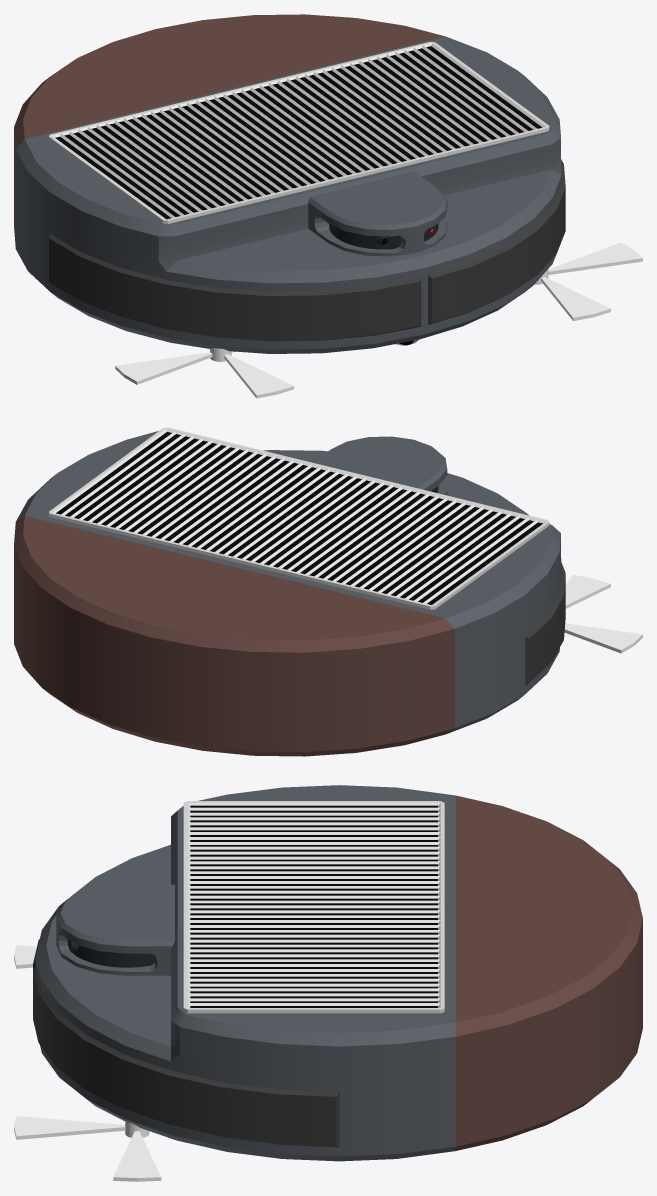
The model's file is electronic10.glb.
3 views of the same model, one above another, from view 1: azimuth 30°, elevation 25°; view 2: azimuth 150°, elevation 25°; view 3: azimuth 270°, elevation 25° (orthographic). The views are drawn at different scales.
Parts seen in each view (by area): view 1: Body.1_4, Air-Filter.1_2, Body.002_3, Container.1_9, Body.2_5, Brush.2_7, Brush.1_6, Lidar.1_10; view 2: Container.1_9, Air-Filter.1_2, Body.1_4, Body.2_5, Body.002_3, Brush.2_7; view 3: Air-Filter.1_2, Container.1_9, Body.1_4, Body.002_3, Body.2_5, Brush.1_6, Lidar.1_10.
Part boxes in pixels (x1,y1,x2,y2): Body.1_4: (15,36,561,353); Air-Filter.1_2: (48,41,549,223); Body.002_3: (49,159,565,341); Container.1_9: (14,14,445,245); Body.2_5: (308,171,447,256); Brush.2_7: (115,348,294,398); Brush.1_6: (534,242,642,321); Lidar.1_10: (329,223,438,249); Container.1_9: (14,516,454,756); Air-Filter.1_2: (48,427,549,609); Body.1_4: (16,431,561,733); Body.2_5: (313,436,447,495); Body.002_3: (525,562,565,685); Brush.2_7: (564,574,642,653); Air-Filter.1_2: (183,801,444,1013); Container.1_9: (455,795,642,1150); Body.1_4: (36,785,455,1161); Body.002_3: (33,939,339,1147); Body.2_5: (56,884,174,975); Brush.1_6: (14,1116,161,1181); Lidar.1_10: (67,939,156,967).
Bounding box in the file's own units: 0.3218 × 0.0837 × 0.3109.
